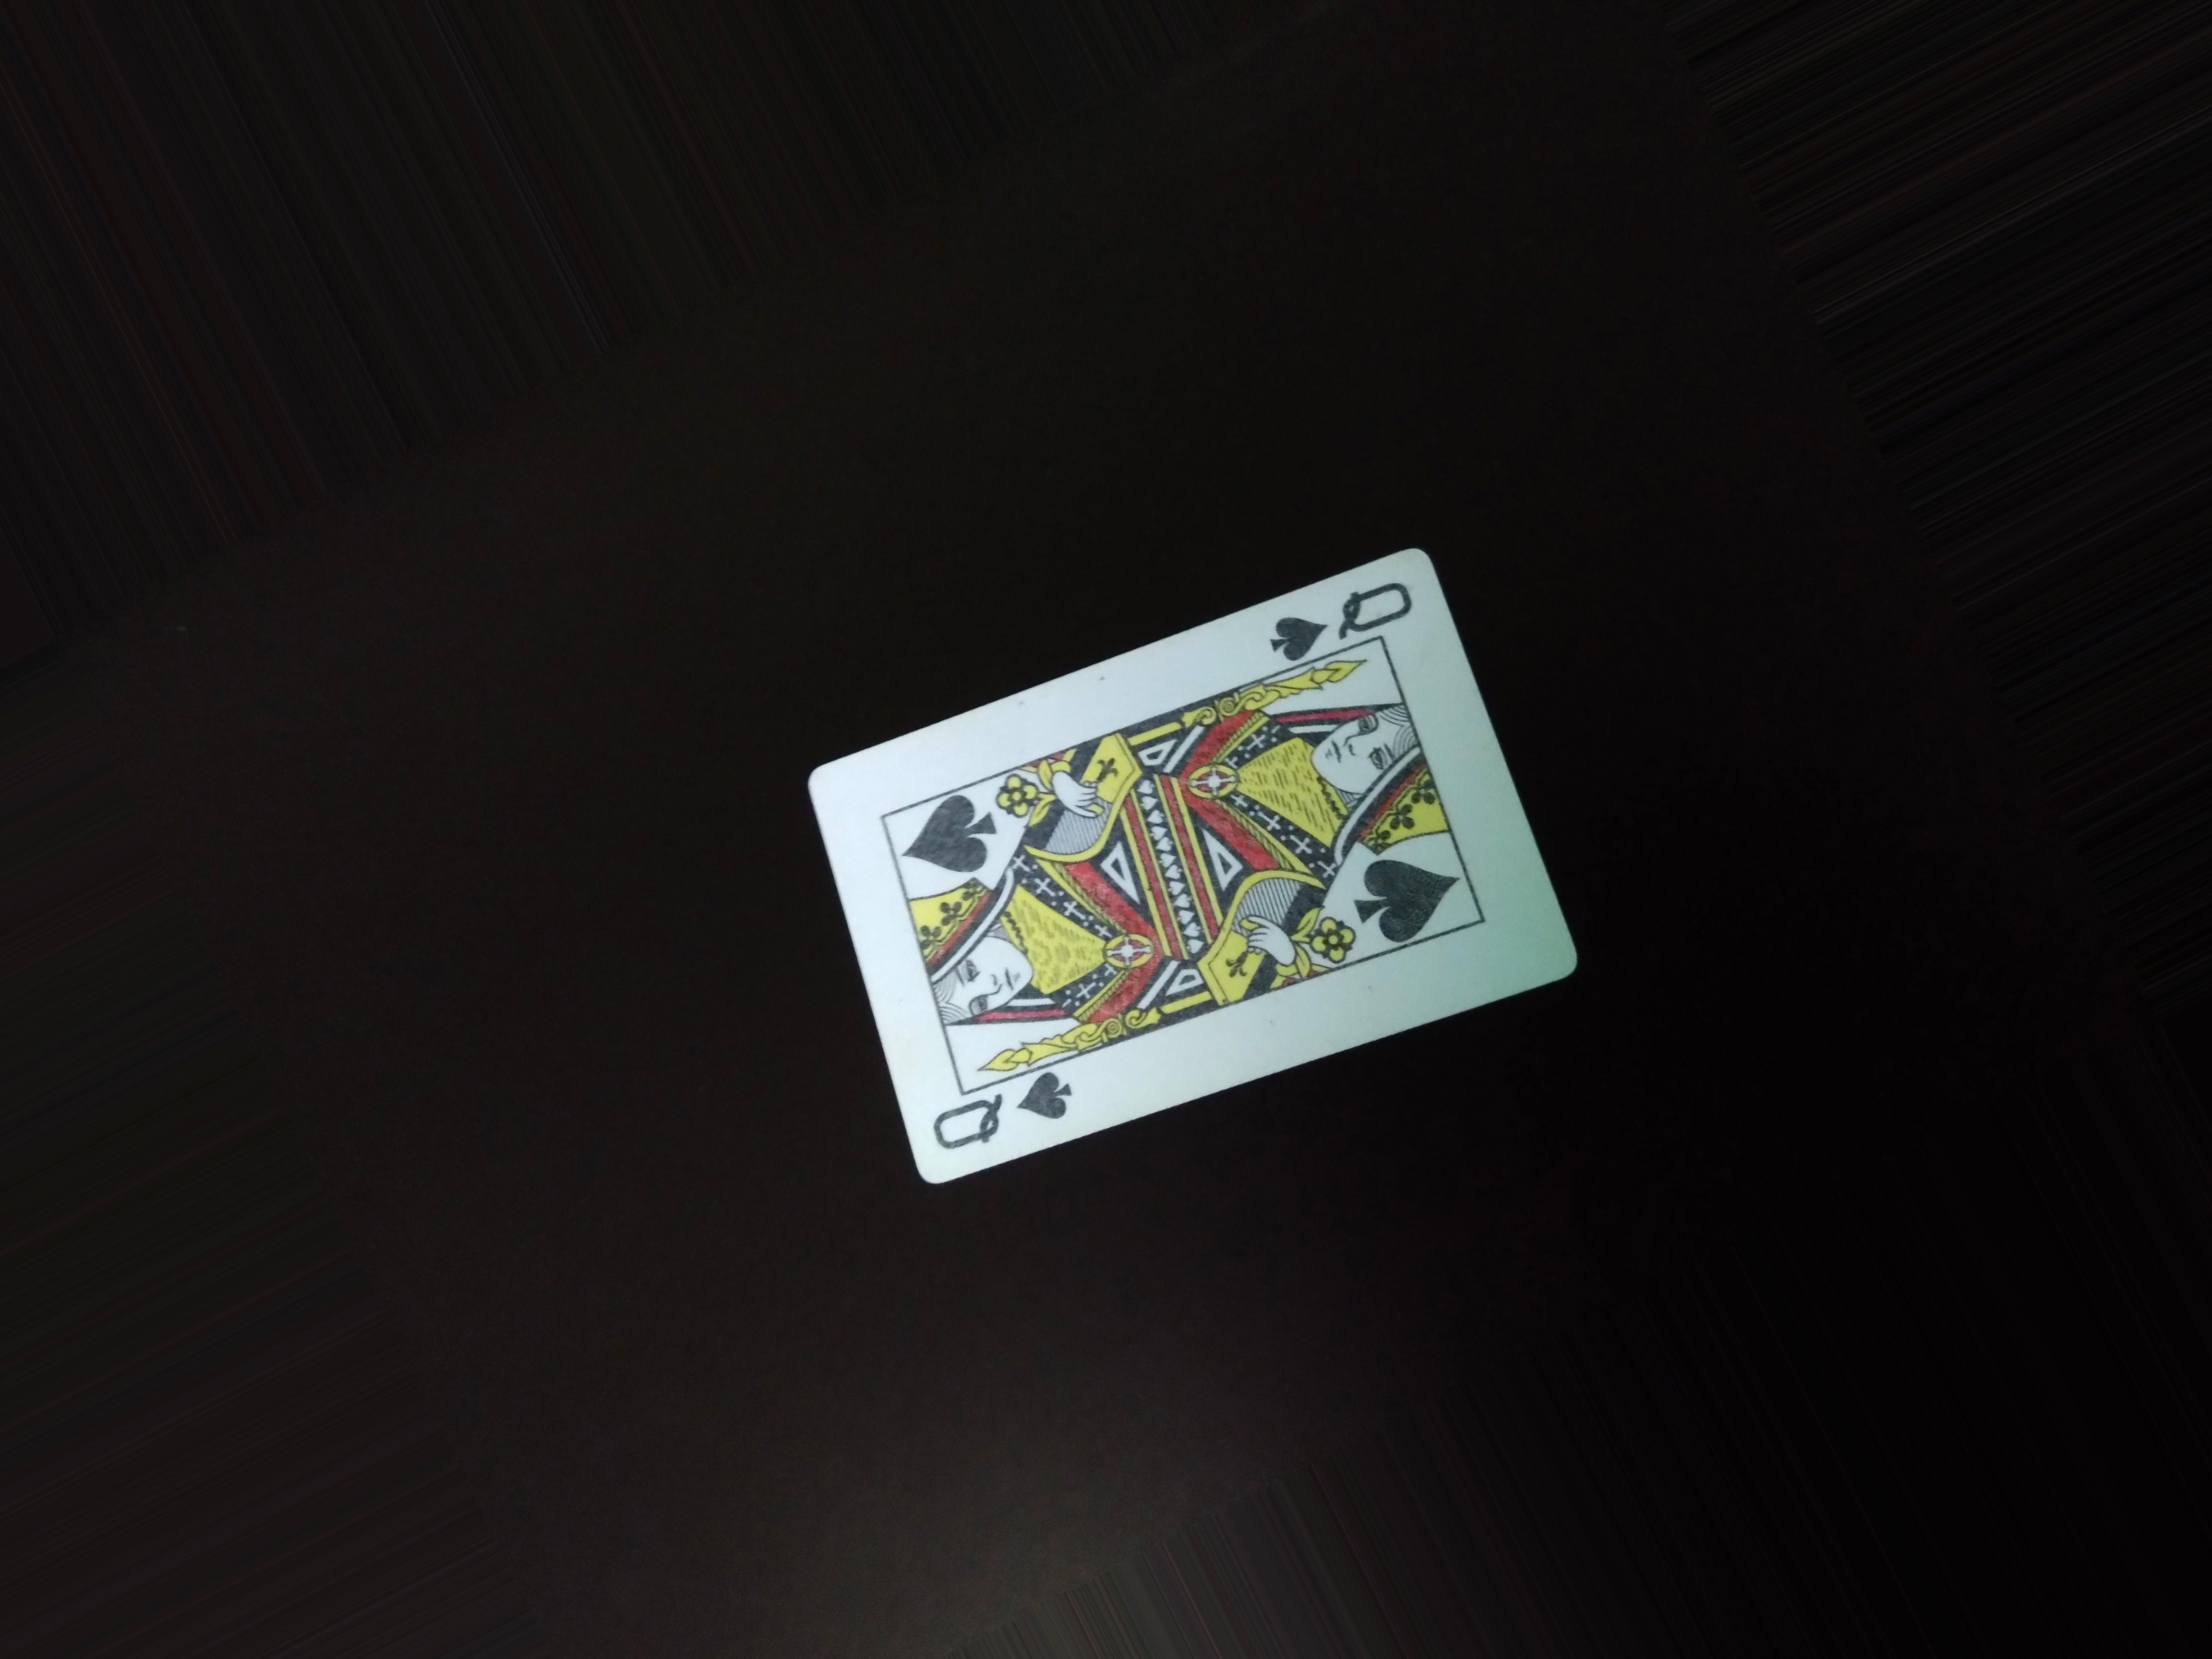QS: (1263, 577, 1423, 664)
